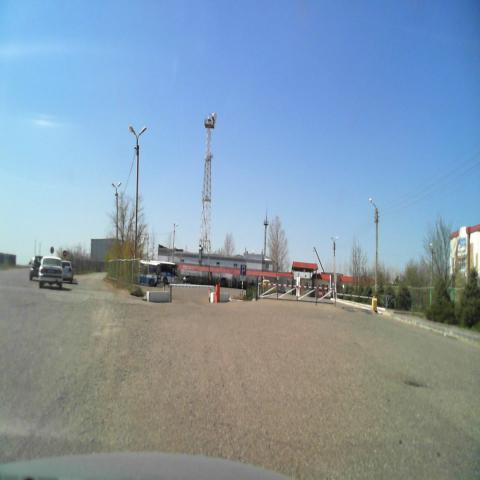6_4: (241, 265, 246, 275)
